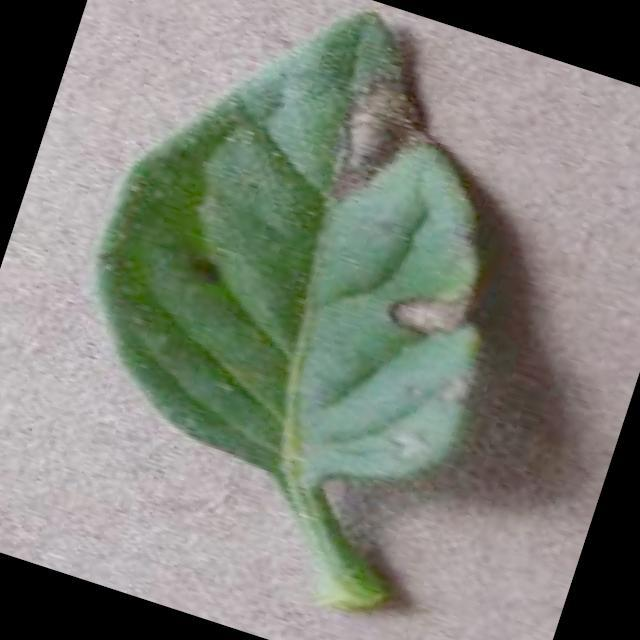Tomato Early blight leaf: (41, 0, 570, 538)
